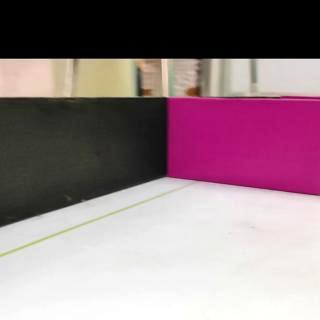xparking: (170, 99, 318, 190)
